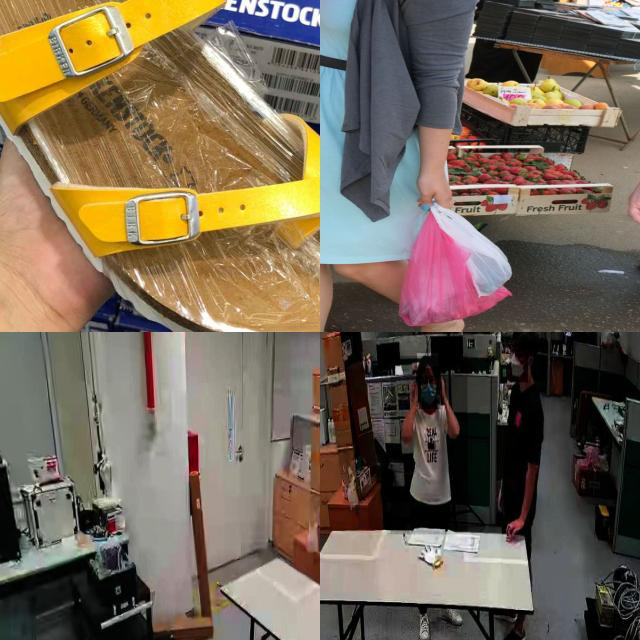Barefoots: (393, 317, 464, 332)
Sandals: (0, 0, 320, 332)
face_mask: (419, 368, 441, 410), (509, 344, 528, 384)
hand_noglove: (504, 516, 524, 540), (408, 376, 420, 406), (435, 374, 447, 402), (496, 480, 504, 513)
head_nohelmet: (417, 353, 439, 367), (511, 332, 540, 342)
person: (390, 356, 468, 535), (496, 332, 547, 540)
shoes: (440, 606, 464, 632), (415, 606, 432, 640), (499, 621, 527, 640)
